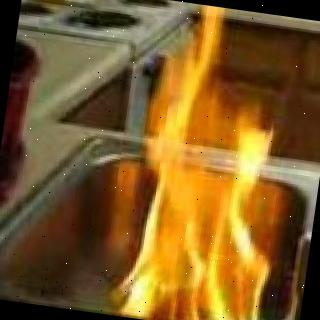fire: (116, 0, 309, 320)
